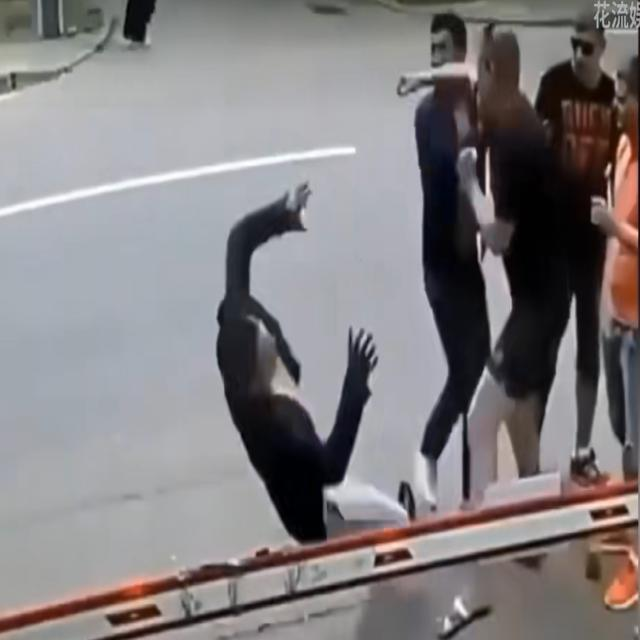fight: (391, 1, 564, 265)
nofight: (181, 180, 405, 538), (526, 24, 625, 481), (604, 42, 640, 586)
